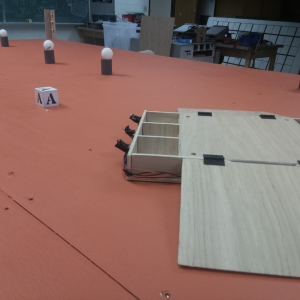blockA: (34, 84, 60, 108)
corner: (43, 10, 64, 37)
obstacle: (96, 48, 120, 74), (39, 40, 60, 64), (1, 27, 14, 48)
side: (121, 108, 178, 177)
slope: (184, 153, 300, 276), (178, 102, 287, 122)
